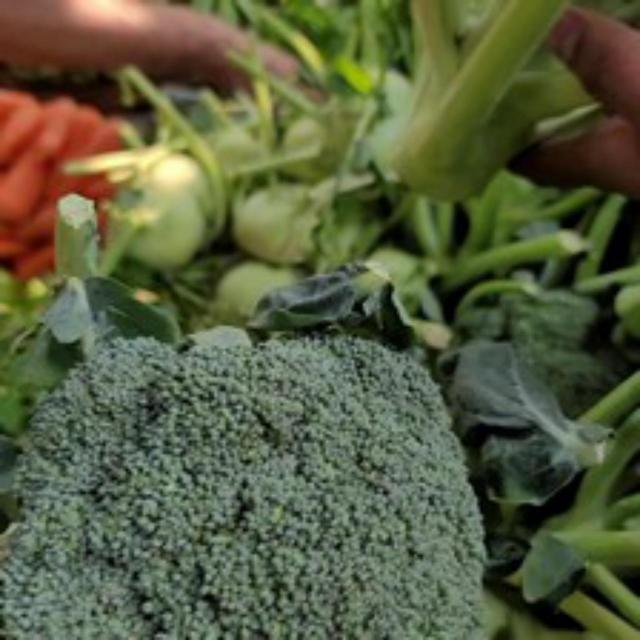broccoli: (0, 317, 494, 637)
